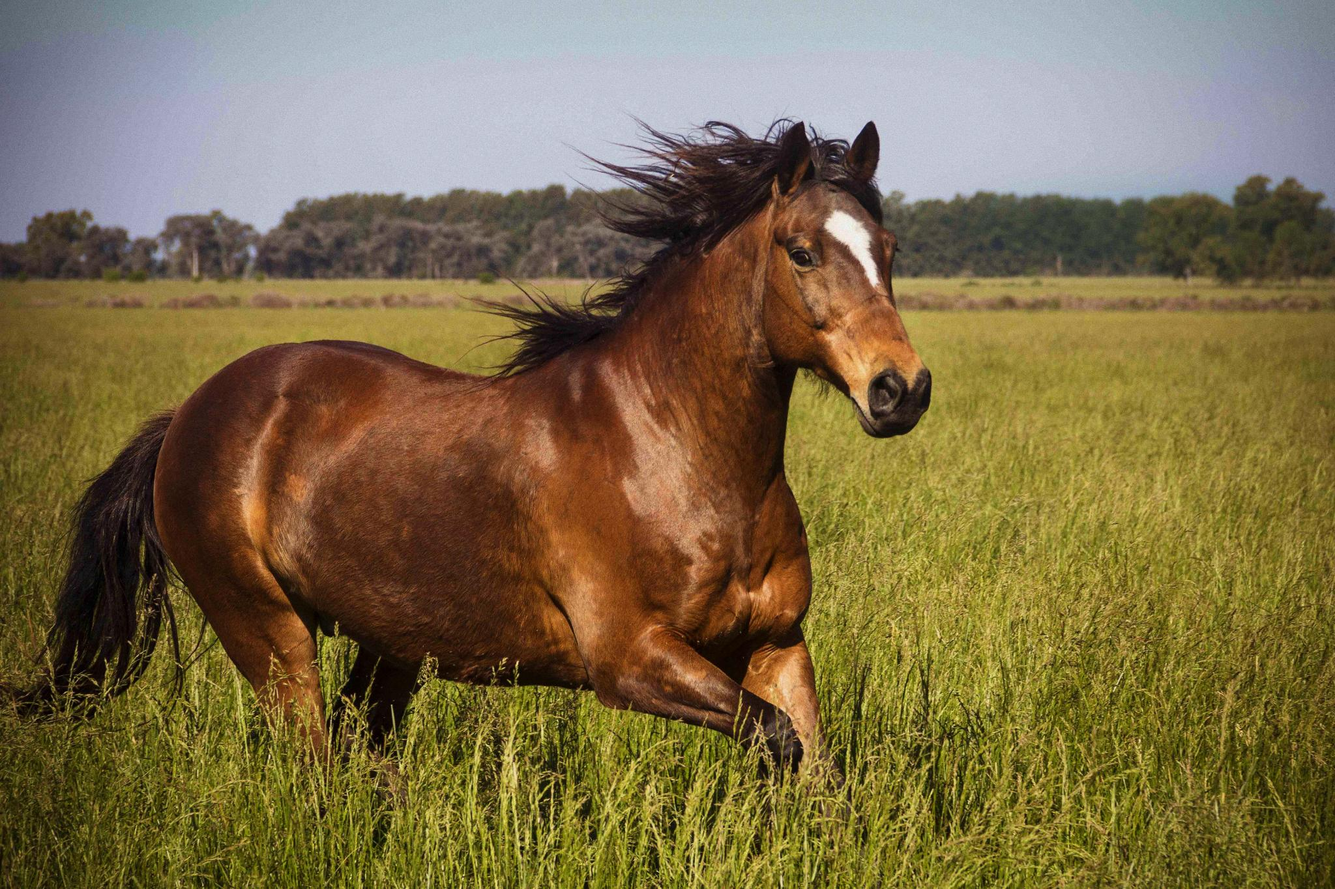horse: (2, 100, 943, 801)
